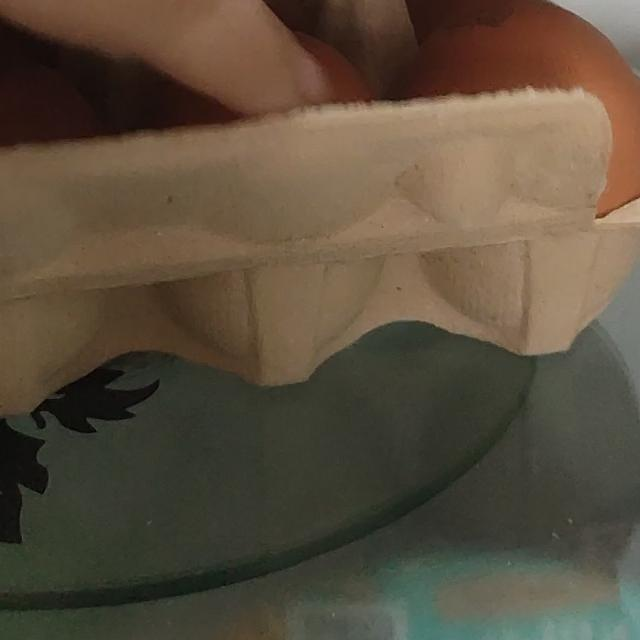egg: (0, 0, 640, 411)
